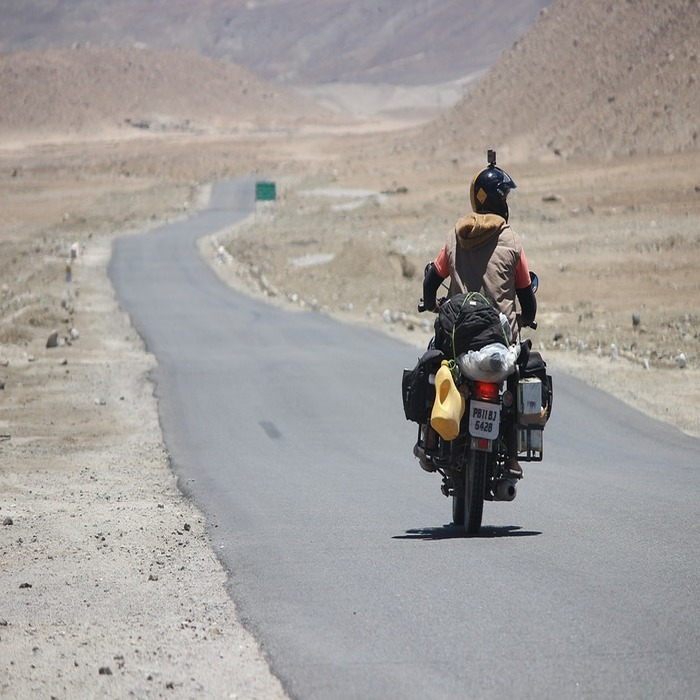h: (469, 165, 516, 224)
n: (465, 397, 503, 441)
